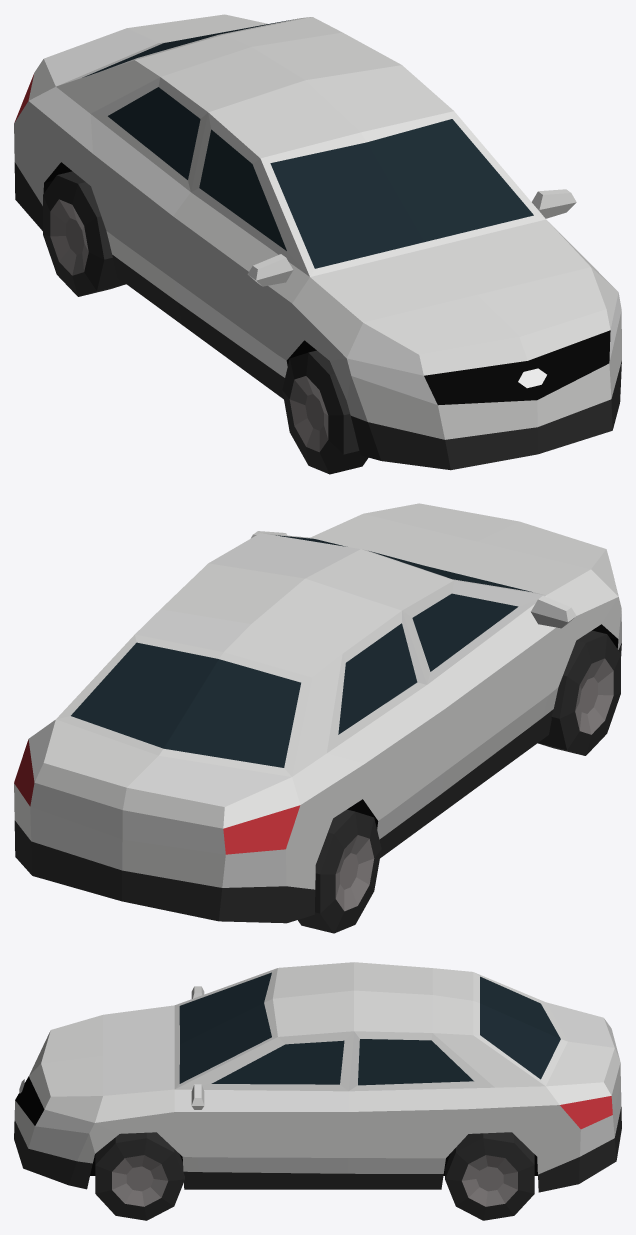
The model's file is car-passenger.glb.
The picture shows the model from 3 angles, top to bottom: view 1: azimuth 30°, elevation 25°; view 2: azimuth 150°, elevation 25°; view 3: azimuth 270°, elevation 25°; orthographic projection. The views are drawn at different scales.
Parts seen in each view (by area): view 1: car-passenger-base, car-passenger-wheel_FR, car-passenger-wheel_BR; view 2: car-passenger-base, car-passenger-wheel_FR, car-passenger-wheel_BR; view 3: car-passenger-base, car-passenger-wheel_BL, car-passenger-wheel_FL.
Part boxes in pixels (box(x1,y1,x2,y2)): car-passenger-base: box(14, 14, 621, 470); car-passenger-wheel_FR: box(282, 350, 368, 474); car-passenger-wheel_BR: box(43, 171, 125, 296); car-passenger-base: box(14, 503, 621, 923); car-passenger-wheel_FR: box(538, 630, 620, 755); car-passenger-wheel_BR: box(298, 809, 381, 933); car-passenger-base: box(14, 962, 621, 1192); car-passenger-wheel_BL: box(445, 1132, 534, 1220); car-passenger-wheel_FL: box(95, 1132, 184, 1220).
Bounding box in the file's own units: 2.1 × 1.55 × 4.72.
1 material, 1 textured.
